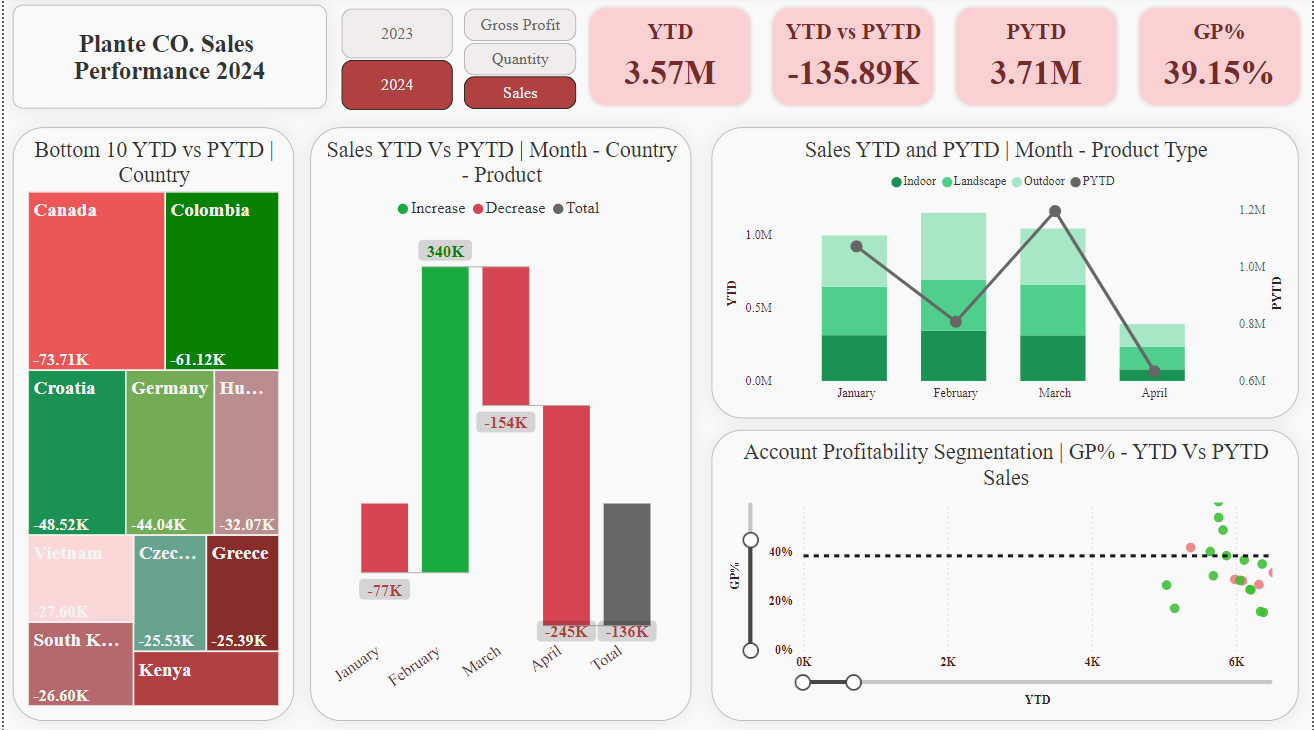

What the dashboard file says about the page in this screenshot:
{"tool":"powerbi","page":{"name":"Page 1","canvas":[1280,720],"ordinal":0},"visuals":[{"type":"cardVisual","fields":{"Data":["_Measures.S_YTD","_Measures.YTD vs PYTD","_Measures.S_PYTD","_Measures.GP%"]},"box":[561.3,0,718,119.8],"z":0},{"type":"advancedSlicerVisual","fields":{"Values":["SLC_Values.Values"]},"box":[445,7,120,110.1],"z":1000},{"type":"advancedSlicerVisual","fields":{"Values":["Dim_Date.Date.Variation.Date Hierarchy.Year"]},"box":[325,7,119.8,110.1],"z":2000},{"type":"treemap","title":"Bottom 10 YTD vs PYTD | Country","fields":{"Group":["Dim_Account.country"],"Values":["_Measures.YTD vs PYTD"]},"box":[8.6,128.4,275.1,580.8],"z":3000},{"type":"waterfallChart","fields":{"Y":["_Measures.YTD vs PYTD"],"Category":["Dim_Date.Date.Variation.Date Hierarchy.Month","Dim_Account.country","Dim_Product.Produt_Type","Dim_Product.Product_Name"]},"box":[299.6,128.4,373,580.8],"z":4000},{"type":"lineStackedColumnComboChart","fields":{"Category":["Dim_Date.Date.Variation.Date Hierarchy.Month"],"Y":["_Measures.S_YTD"],"Y2":["_Measures.S_PYTD"],"Series":["Dim_Product.Produt_Type"]},"box":[692.1,128.4,574.7,285],"z":5000},{"type":"scatterChart","fields":{"Y":["_Measures.GP%"],"X":["_Measures.S_YTD"],"Category":["Dim_Account.Account"]},"box":[692.1,424.3,574.7,284.9],"z":6000},{"type":"card","fields":{"Values":["_Measures._ReportTitle"]},"box":[8.6,8,306.9,101.5],"z":7000}]}

Visuals, with their boxes in screenshot pixels (x1, y1, x2, y2), scaled from the page's 1280x720 canvas onto the 1314x730 screenshot:
cardVisual - _Measures.S_YTD x _Measures.YTD vs PYTD: BBox(576, 0, 1313, 121)
advancedSlicerVisual - SLC_Values.Values: BBox(457, 7, 580, 119)
advancedSlicerVisual - Dim_Date.Date.Variation.Date Hierarchy.Year: BBox(334, 7, 457, 119)
"Bottom 10 YTD vs PYTD | Country" treemap: BBox(9, 130, 291, 719)
waterfallChart - _Measures.YTD vs PYTD x Dim_Date.Date.Variation.Date Hierarchy.Month: BBox(308, 130, 690, 719)
lineStackedColumnComboChart - Dim_Date.Date.Variation.Date Hierarchy.Month x _Measures.S_YTD: BBox(710, 130, 1300, 419)
scatterChart - _Measures.GP% x _Measures.S_YTD: BBox(710, 430, 1300, 719)
card - _Measures._ReportTitle: BBox(9, 8, 324, 111)
